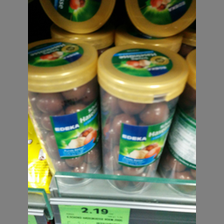chocolate: (98, 44, 190, 195), (29, 38, 100, 184)
